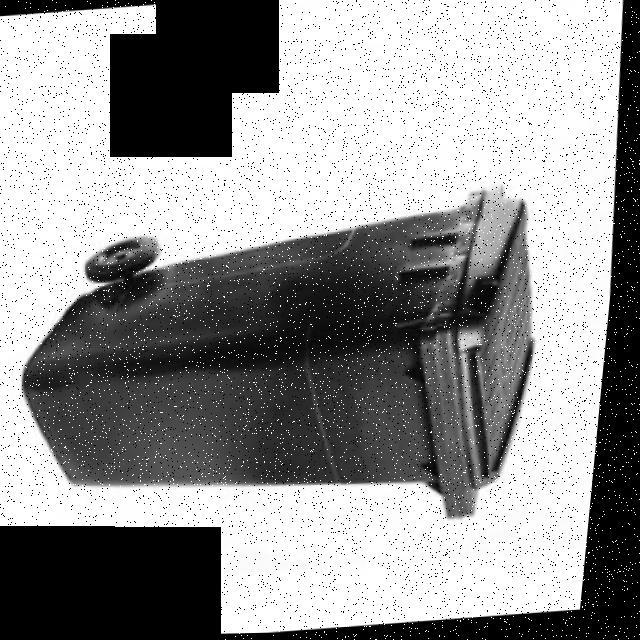bin: (0, 170, 574, 564)
